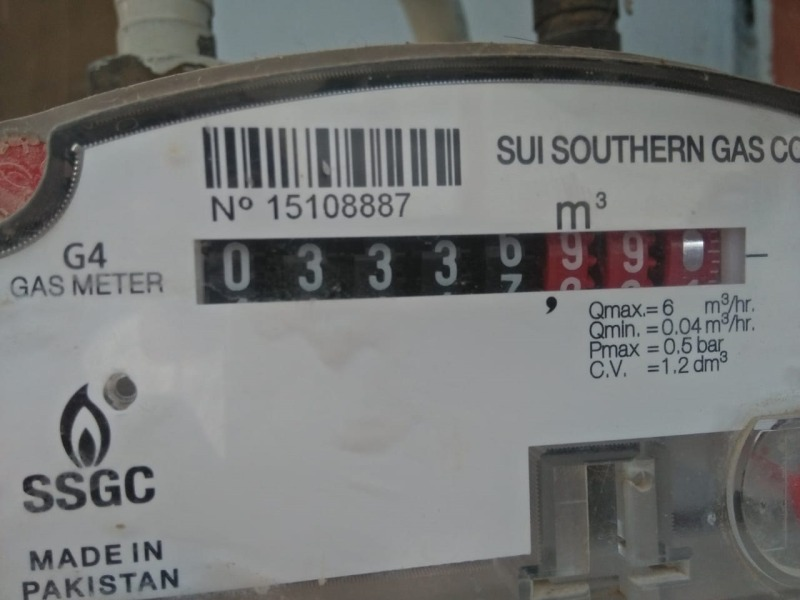ssgc: (190, 229, 742, 292)
